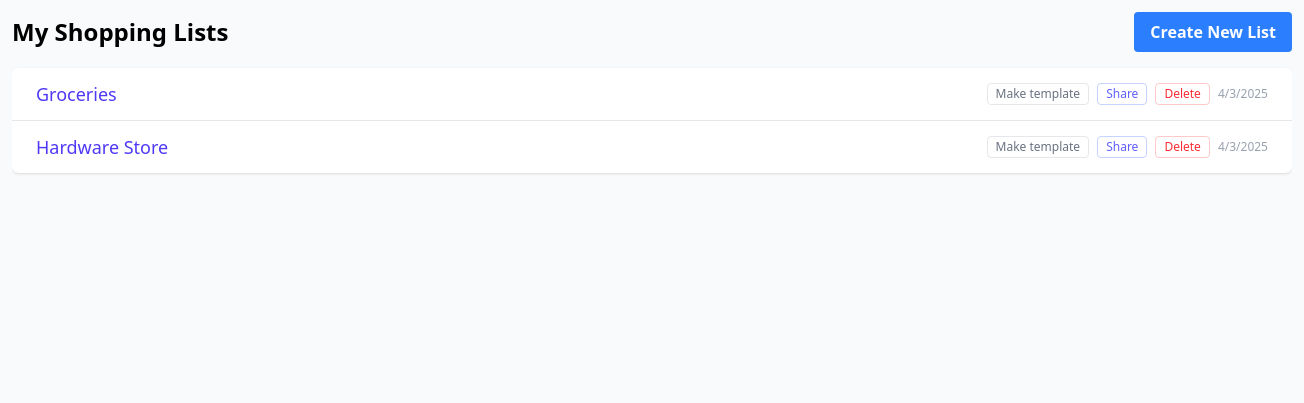
Test case: ShoppingListsPage Component › should display an error when adding a list fails with server error (500)
Expected: the link "Groceries" is shown, [36,80,117,108]
Click the button "Create New List": [1213, 32] box [1134,12,1292,52]
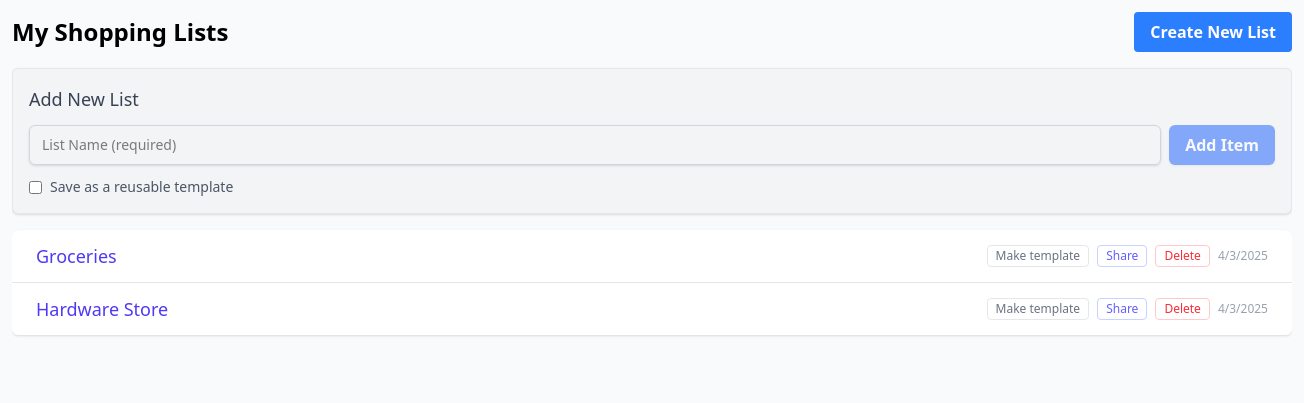
# Fill in the form
In the field named "New list name": [595, 145] box [29,125,1161,165], type "New List"
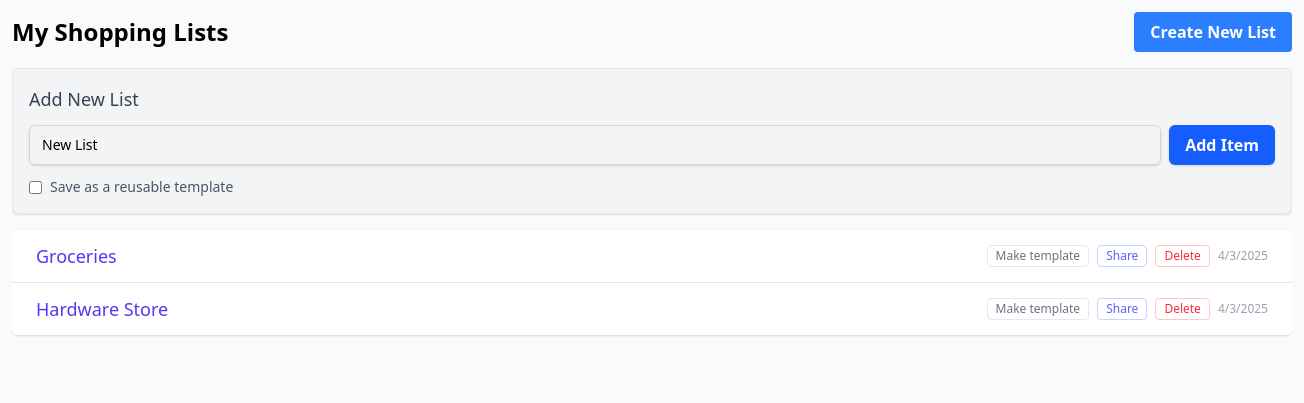
# Submit the form
Click the button "Add Item": [1222, 145] box [1169,125,1275,165]
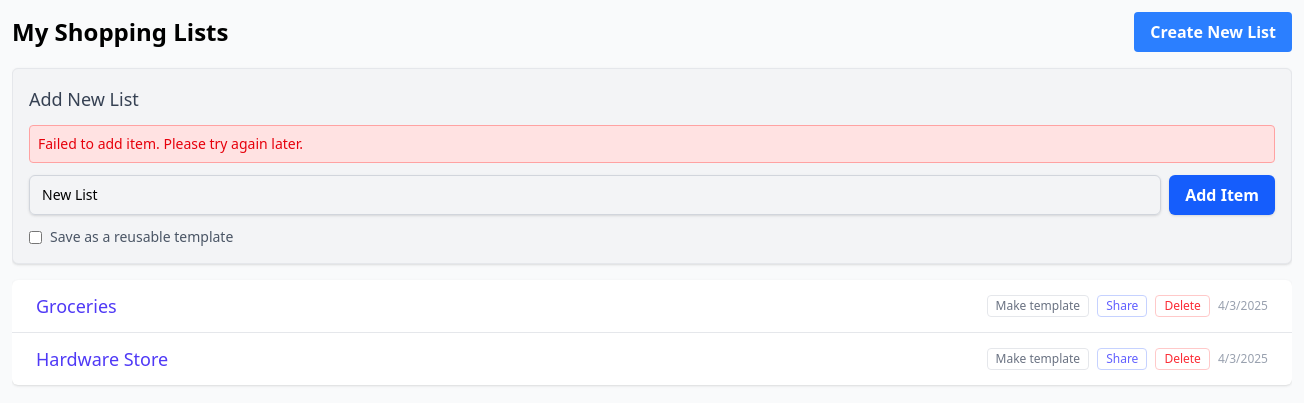
Expected: the text "Failed to add item. Please try again later." is shown, [29,125,1275,163]
